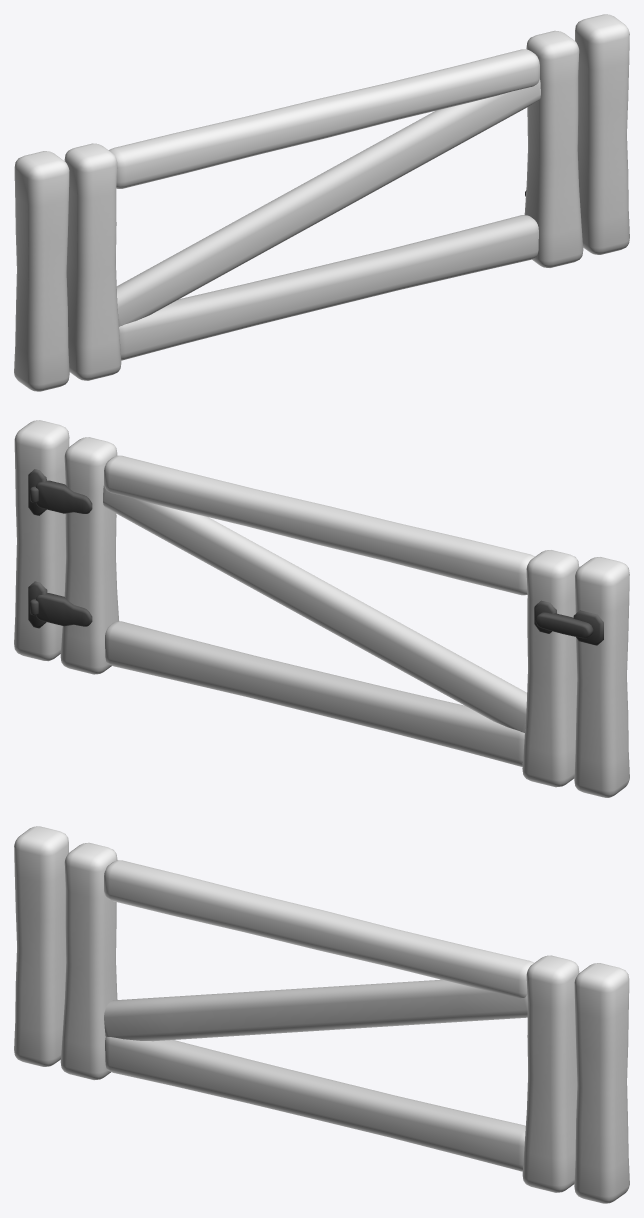
The model's file is Valla Door.fbx.
3 views of the same model, one above another, from view 1: azimuth 30°, elevation 25°; view 2: azimuth 150°, elevation 25°; view 3: azimuth 330°, elevation 25° (orthographic).
Parts seen in each view (by area): view 1: Cube.016; view 2: Cube.016, Cube.018; view 3: Cube.016.
Part boxes in pixels (x1,y1,x2,y2): Cube.016: (14,14,629,391); Cube.016: (14,420,629,797); Cube.018: (28,469,603,645); Cube.016: (14,826,629,1203).
Bounding box in the file's own units: 2.91 × 0.2507 × 1.04.
